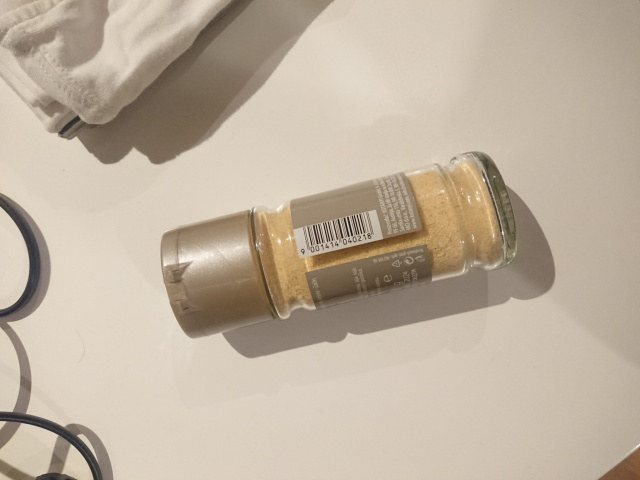Kotanyi Garlic Granules 70g: (154, 148, 521, 346)
